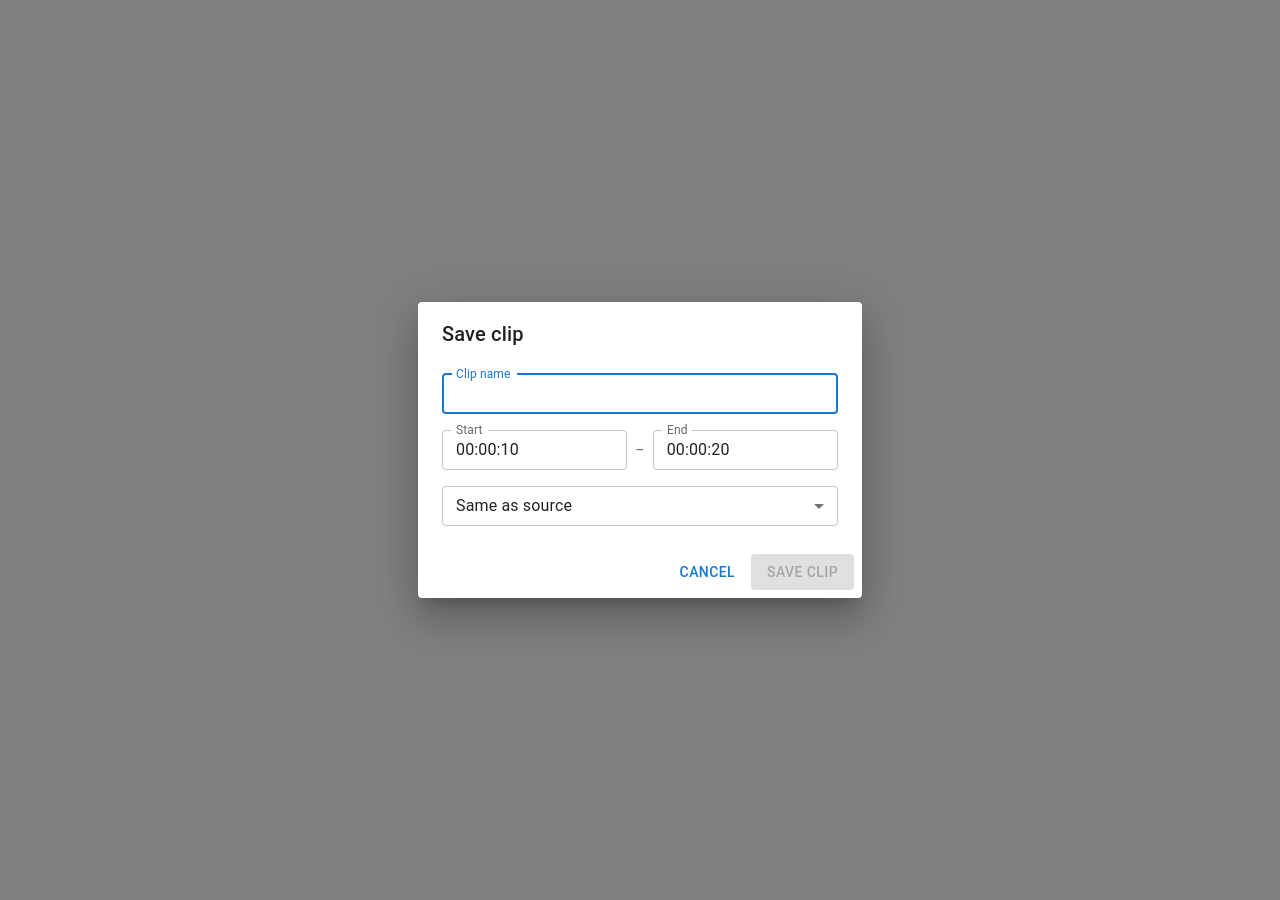
Test case: SaveClipDialog › disables submit and shows an error when the name collides with an existing clip
Type "Existing Clip" into the field labelled "Clip name". click: coordinates (640, 394)
box: [442,374,838,414]
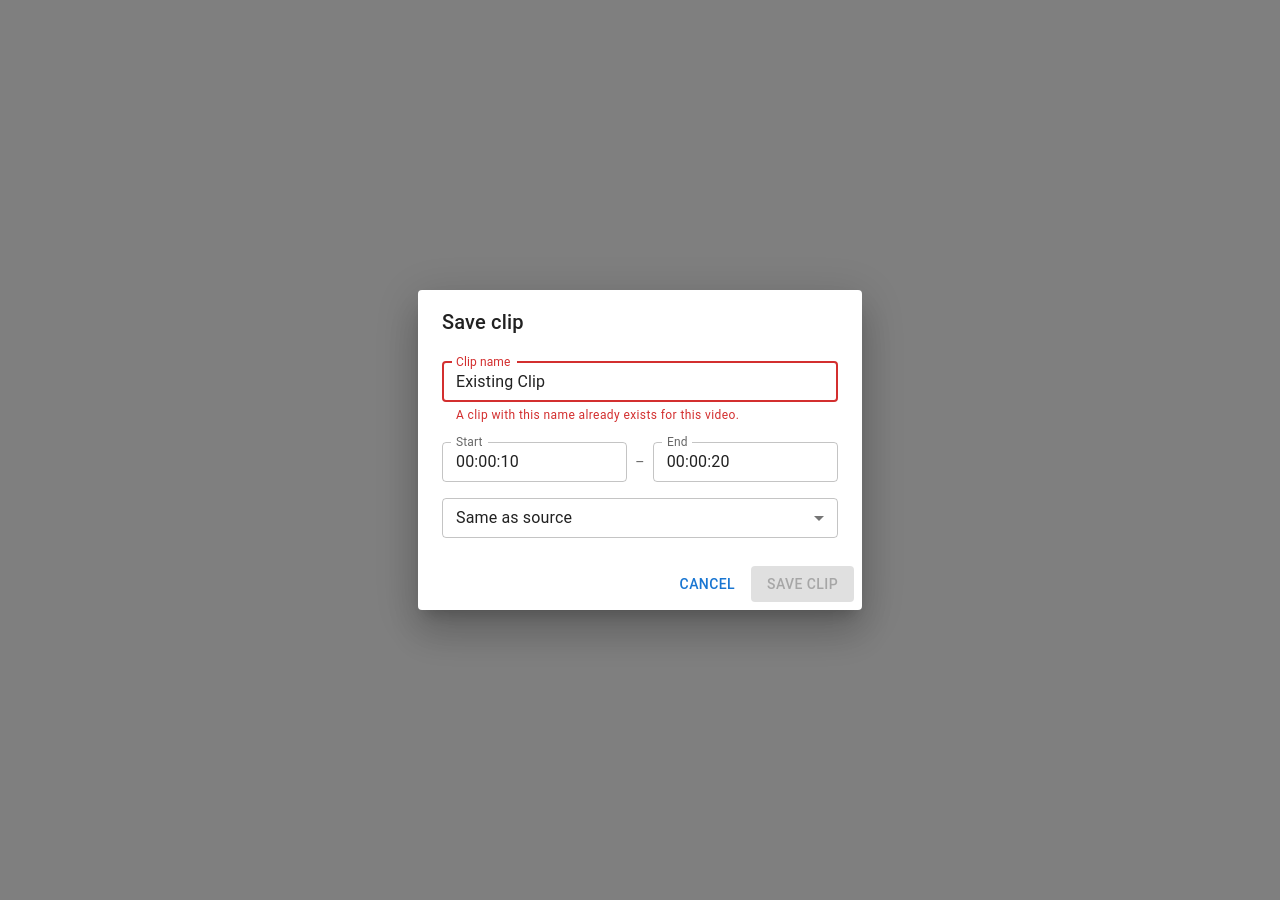
Expected: the button "Save clip" is disabled, [751,566,854,602]
Expected: the text "A clip with this name already exists for this video." is shown, [456,408,739,422]
